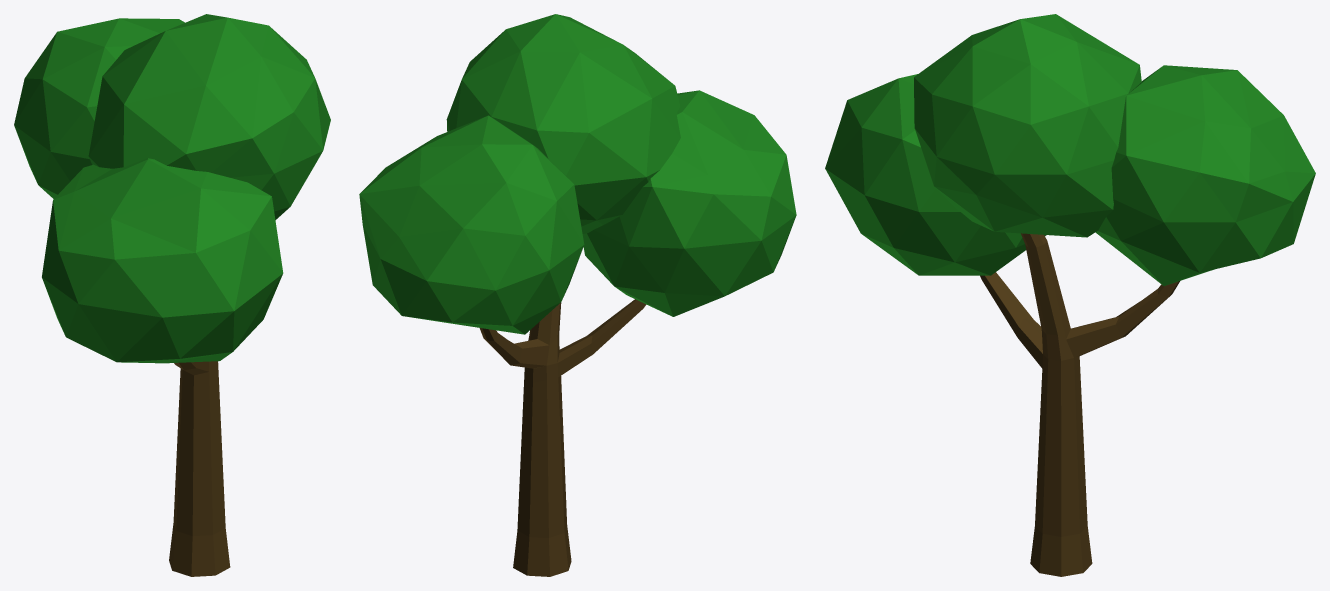
Rendered from tree.glb.
3 views of the same model, side by side, from view 1: azimuth 30°, elevation 25°; view 2: azimuth 150°, elevation 25°; view 3: azimuth 270°, elevation 25° (orthographic). The views are drawn at different scales.
Parts seen in each view (by area): view 1: Cylinder.001; view 2: Cylinder.001; view 3: Cylinder.001.
Boxes of the visible parts, bbox=[...] form: Cylinder.001: bbox=[14, 14, 330, 576]; Cylinder.001: bbox=[359, 14, 796, 576]; Cylinder.001: bbox=[825, 14, 1315, 576].
Size of the model in its own units: 2.85 by 5.2 by 4.22.
